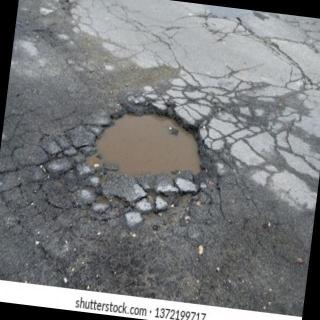pothole: (82, 114, 201, 177)
